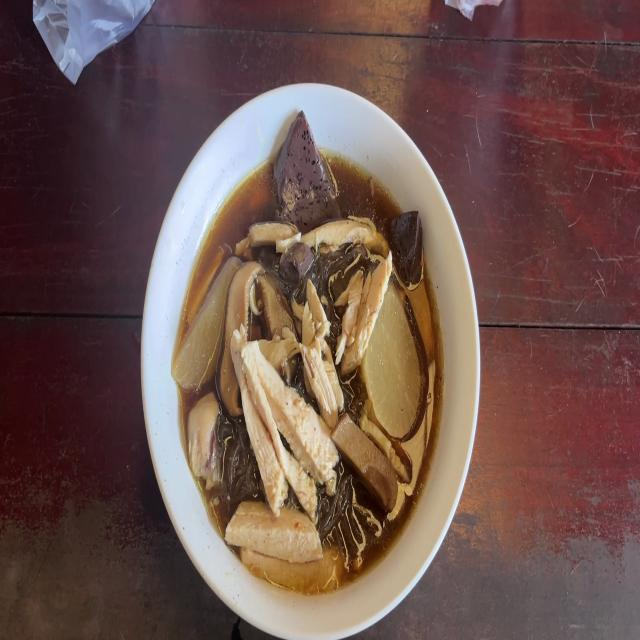boiled_chicken_blood_jelly: (276, 110, 338, 230), (391, 212, 425, 280), (286, 245, 316, 286)
chicken_shredded: (232, 330, 345, 505), (230, 507, 340, 588), (299, 288, 337, 411), (232, 220, 387, 250), (344, 263, 382, 371), (182, 395, 221, 471)
daikon_radish: (174, 258, 226, 384), (373, 312, 423, 430)
noodle: (183, 155, 435, 598)
